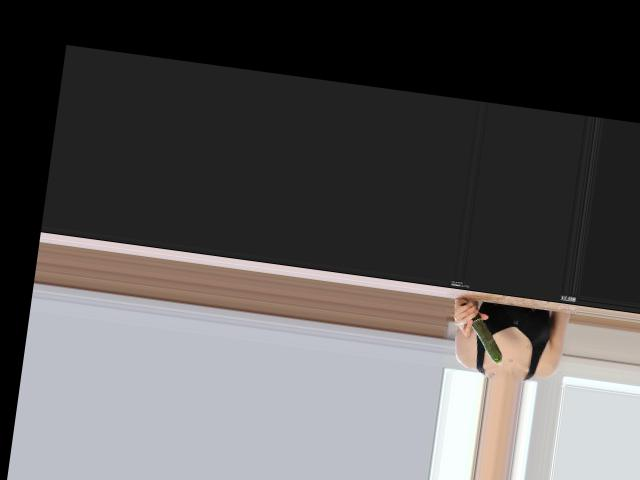cucumber: (453, 301, 508, 364)
